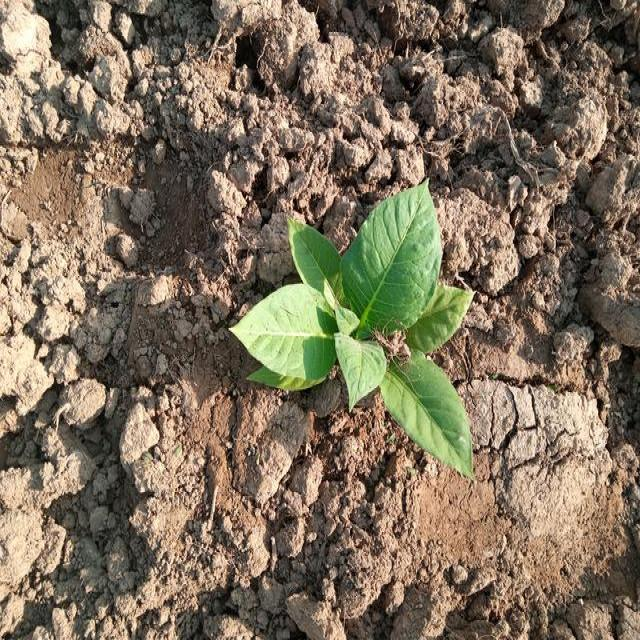crop: (253, 207, 467, 472)
